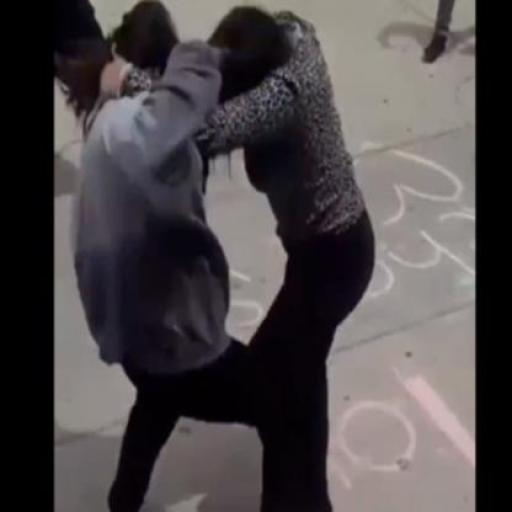Fighting: (67, 2, 376, 512)
